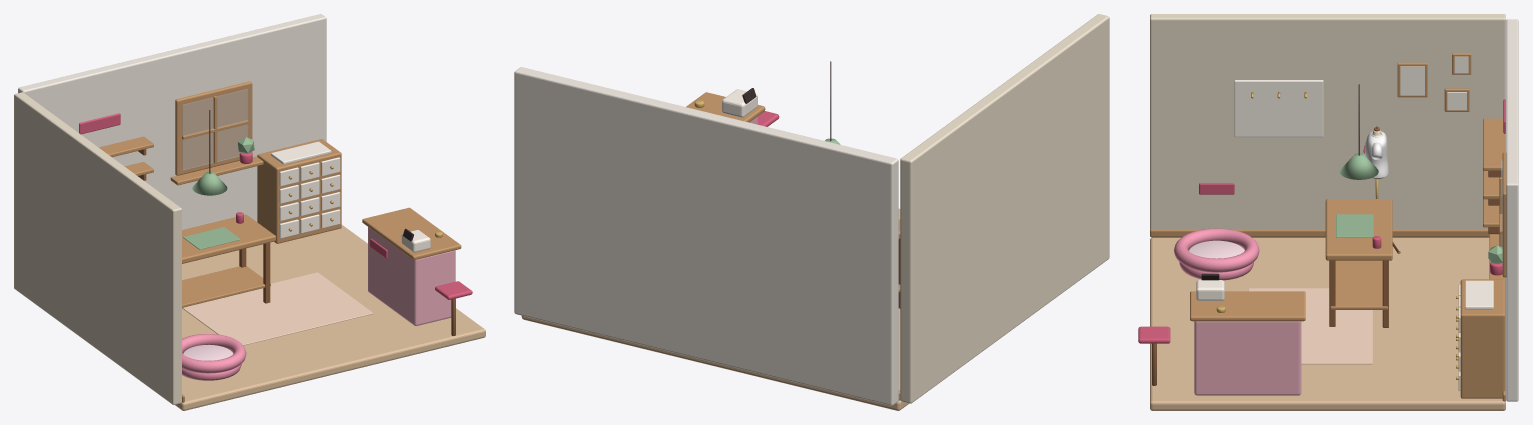
Rendered from atelier.glb.
The picture shows the model from 3 angles, left to right: view 1: azimuth 30°, elevation 25°; view 2: azimuth 150°, elevation 25°; view 3: azimuth 270°, elevation 25°; orthographic projection. The views are drawn at different scales.
Parts seen in each view (by area): view 1: wall_left, wall_back, floor, rug, desk, window_frame, window_glass, cabinet, desk_top, workbench_shelf, workbench_top, petbed_rim (+11 smaller); view 2: wall_back, wall_left, floor, desk_top, register; view 3: wall_left, floor, desk, pegboard, wall_back, cabinet, rug, workbench_top, desk_top, workbench_shelf, petbed_rim, baseboard_left (+18 smaller).
Part boxes in pixels (bbox=[...]): wall_left: bbox=[14, 92, 181, 404]; wall_back: bbox=[18, 14, 326, 229]; floor: bbox=[175, 225, 485, 410]; rug: bbox=[182, 272, 373, 345]; desk: bbox=[368, 227, 455, 325]; window_frame: bbox=[175, 81, 252, 175]; window_glass: bbox=[182, 89, 248, 169]; cabinet: bbox=[257, 139, 341, 243]; desk_top: bbox=[362, 207, 461, 259]; workbench_shelf: bbox=[182, 266, 270, 307]; workbench_top: bbox=[182, 214, 275, 263]; petbed_rim: bbox=[182, 334, 246, 373]; wall_back: bbox=[514, 67, 898, 405]; wall_left: bbox=[900, 14, 1109, 403]; floor: bbox=[521, 208, 909, 410]; desk_top: bbox=[686, 92, 765, 122]; register: bbox=[722, 89, 757, 117]; wall_left: bbox=[1150, 14, 1505, 229]; floor: bbox=[1150, 237, 1505, 410]; desk: bbox=[1194, 321, 1301, 395]; pegboard: bbox=[1234, 80, 1323, 137]; wall_back: bbox=[1506, 19, 1518, 401]; cabinet: bbox=[1460, 279, 1505, 398]; rug: bbox=[1248, 288, 1372, 364]; workbench_top: bbox=[1325, 199, 1392, 260]; desk_top: bbox=[1190, 291, 1305, 321]; workbench_shelf: bbox=[1330, 260, 1388, 309]; petbed_rim: bbox=[1174, 228, 1259, 272]; baseboard_left: bbox=[1150, 229, 1498, 237].
Bounding box in the file's own units: 4.54 × 2.82 × 4.27.
